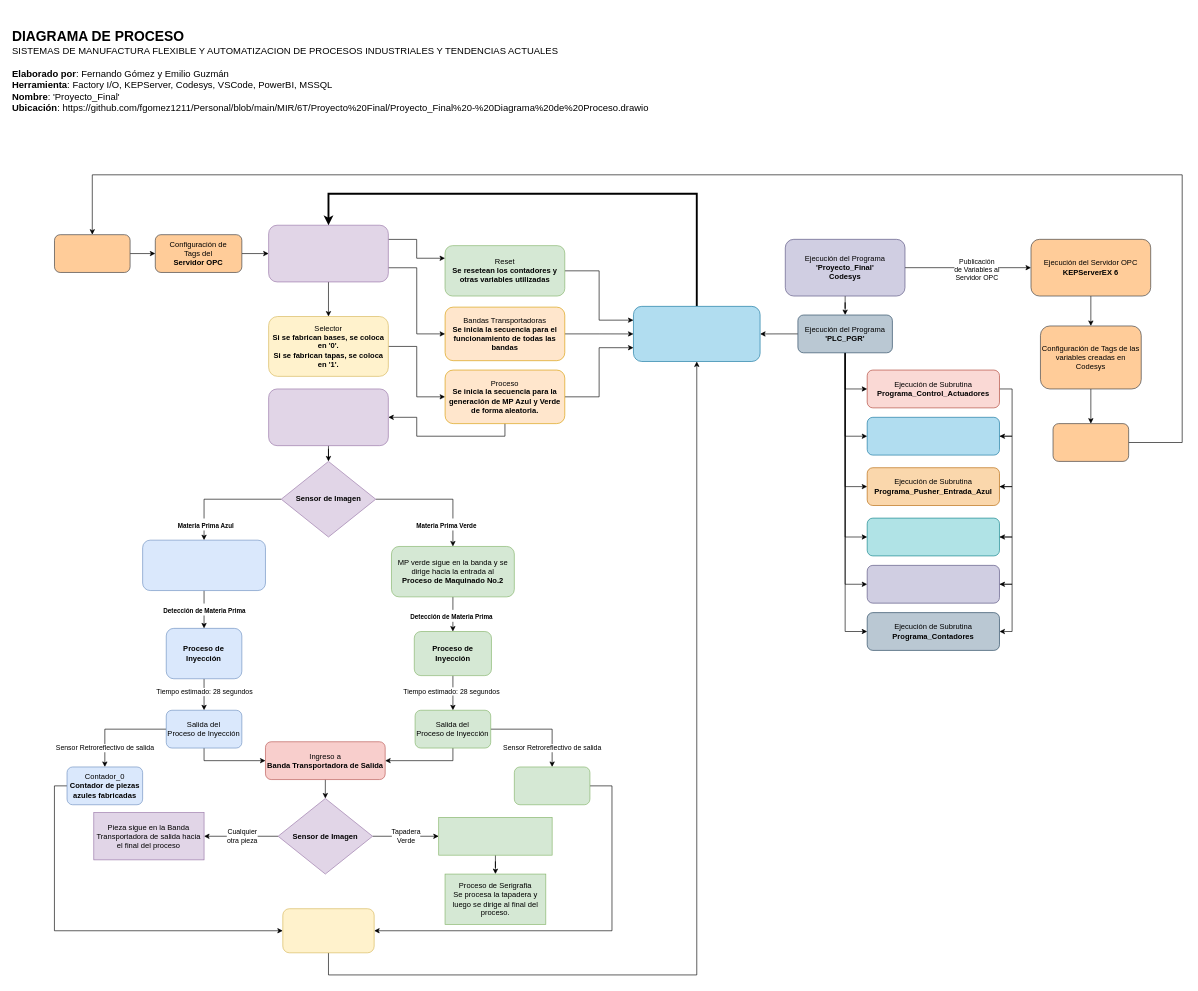
This 1198x991 diagram has some shape labels left out. The centre of each missing label's shape, as x and y in pixels:
"Actuador empuja la MP para entrar al Proceso de Maquinado No.1" belongs at pixel 203 565.
"Actuador empuja la pieza para entrar al Proceso de Serigrafia" belongs at pixel 495 836.
"Configuración del Servidor OPC" belongs at pixel 92 253.
"Contador_1 Contador de piezas verdes fabricadas" belongs at pixel 552 785.
"Contador_Total Cuenta el total de piezas producidas" belongs at pixel 328 930.
"Ejecución de Subrutina Programa_Control_Producto" belongs at pixel 933 436.
"Ejecución de Subrutina Programa_Pusher_Salida_Verde" belongs at pixel 933 536.
"Ejecución de Subrutina Programa_Serigrafia" belongs at pixel 933 584.
"Ejecución del Proceso Factory I/O" belongs at pixel 328 253.
"Generación de HMI Control del Sistema" belongs at pixel 696 333.
"Generación de Materia Prima" belongs at pixel 328 417.
"Se crea la instancia del Quick Client" belongs at pixel 1090 442.
